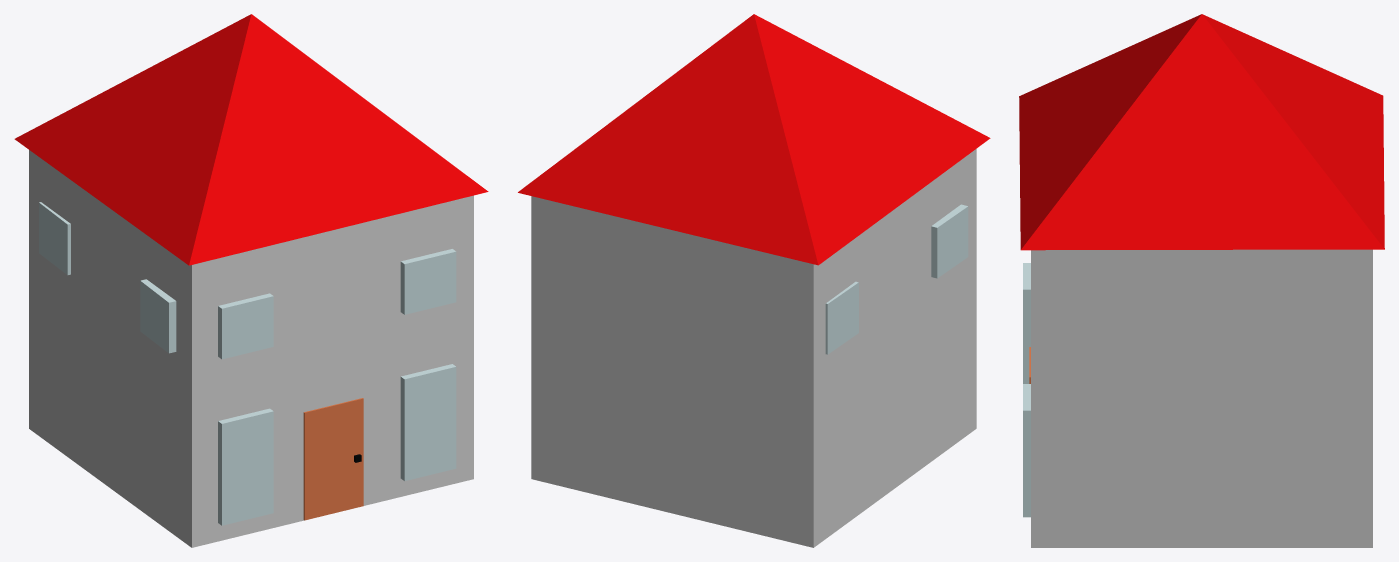
Rendered from Casa 8 Esquina.fbx.
3 views of the same model, side by side, from view 1: azimuth 30°, elevation 25°; view 2: azimuth 150°, elevation 25°; view 3: azimuth 270°, elevation 25° (orthographic). The views are drawn at different scales.
Visible parts, largest first — view 1: Cube, Cone, Cube.001, Cube.003, Cube.004, Cube.005, Cube.006, Cube.008, Cube.007; view 2: Cube, Cone, Cube.008, Cube.007; view 3: Cube, Cone, Cube.003, Cube.005.
Boxes of the visible parts, bbox=[...] form: Cube: bbox=[29, 150, 473, 547]; Cone: bbox=[14, 14, 488, 265]; Cube.001: bbox=[303, 398, 363, 520]; Cube.003: bbox=[400, 364, 456, 481]; Cube.004: bbox=[218, 408, 273, 525]; Cube.005: bbox=[400, 249, 456, 314]; Cube.006: bbox=[218, 293, 273, 359]; Cube.008: bbox=[140, 279, 176, 353]; Cube.007: bbox=[39, 202, 70, 275]; Cube: bbox=[531, 149, 976, 547]; Cone: bbox=[518, 14, 990, 265]; Cube.008: bbox=[931, 204, 968, 278]; Cube.007: bbox=[825, 281, 858, 354]; Cube: bbox=[1031, 249, 1372, 547]; Cone: bbox=[1019, 14, 1384, 250]; Cube.003: bbox=[1023, 384, 1030, 517]; Cube.005: bbox=[1023, 263, 1030, 342].
Size of the model in its own units: 134 by 186 by 134.
